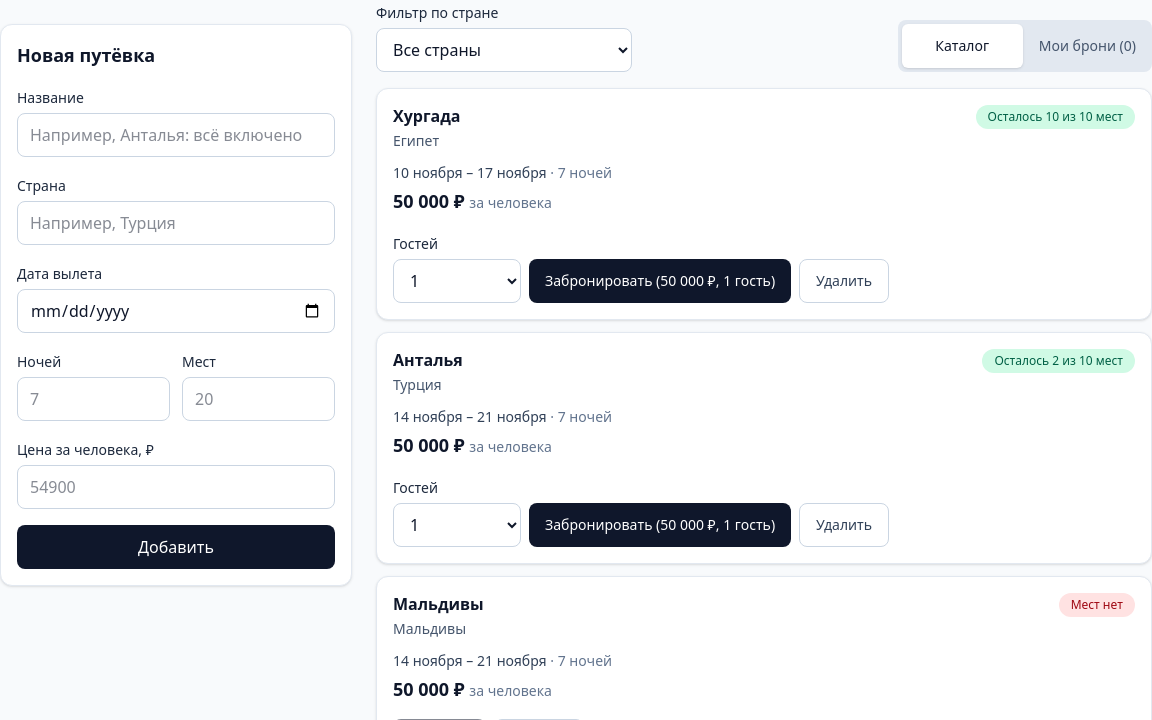
Test: ToursPage › отмена брони возвращает места
This screenshot has width=1152, height=720.
Expected: the heading "Анталья" is shown, [393, 349, 463, 371]
Click the button with aria-label "Забронировать: Анталья": {"x": 660, "y": 525} [529, 503, 791, 547]
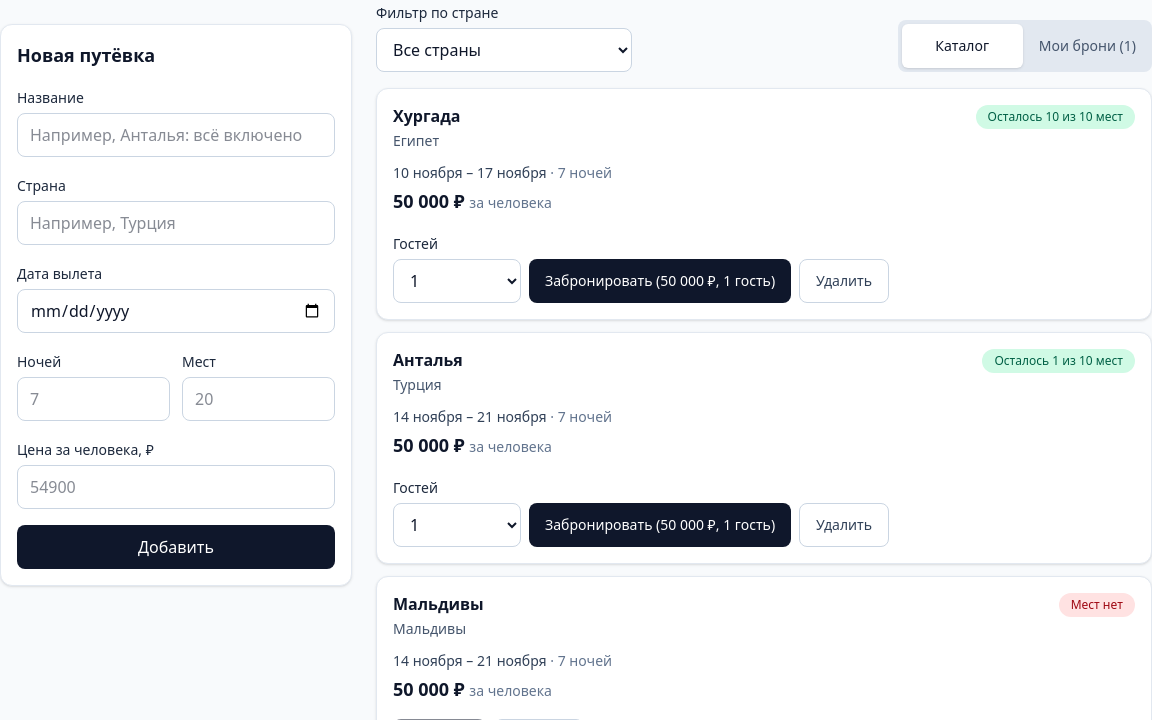
Click the button "Мои брони (1)": {"x": 1087, "y": 46} [1027, 24, 1148, 68]
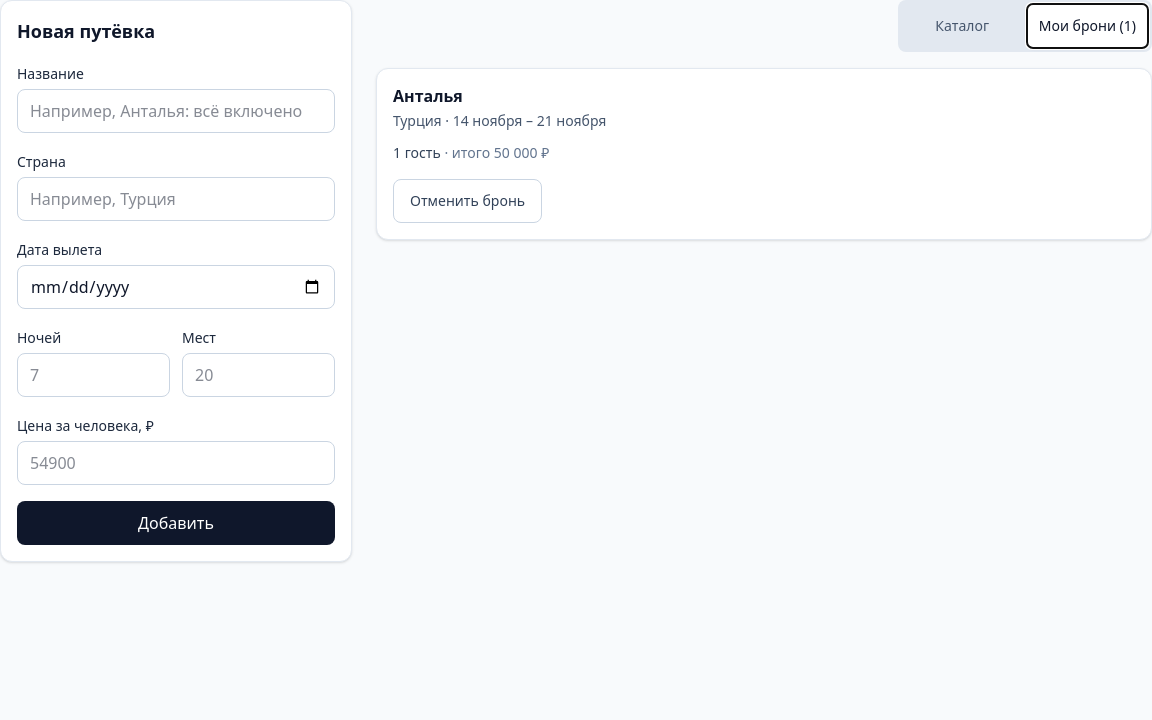
Click the button with aria-label "Отменить бронь: Анталья": {"x": 468, "y": 201} [393, 179, 542, 223]
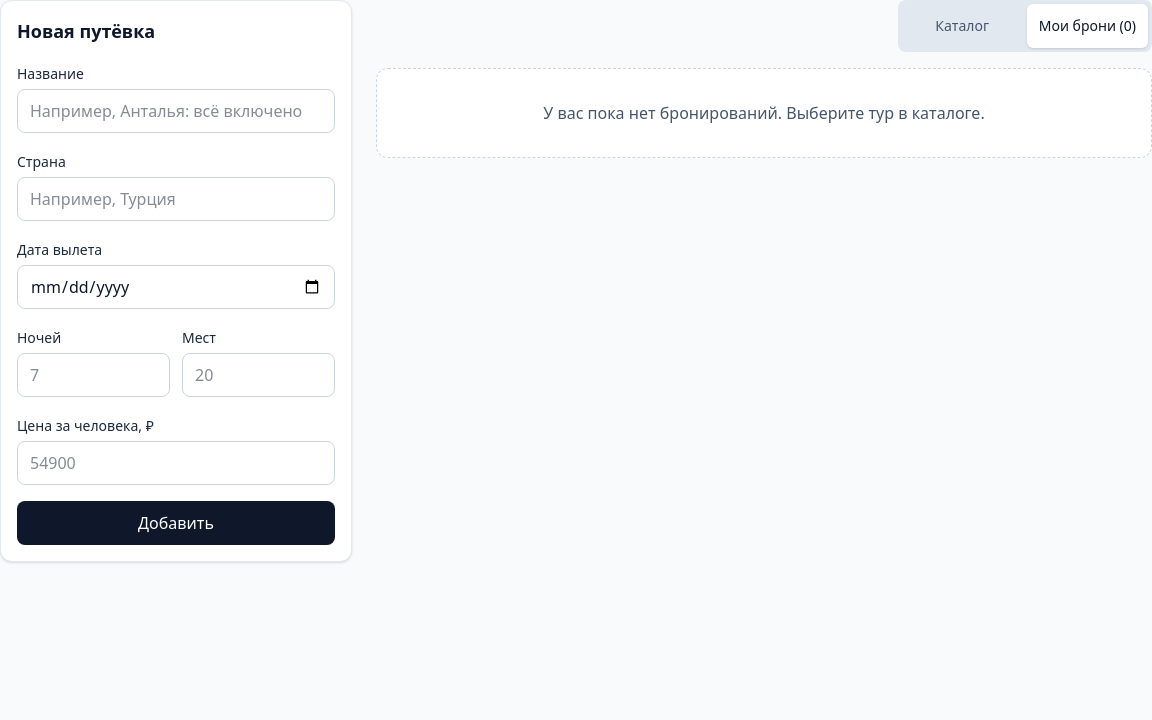
Result: the text "У вас пока нет бронирований. Выберите тур в каталоге." is shown at [376, 68, 1151, 158]
Click the button "Каталог": {"x": 962, "y": 26} [902, 4, 1023, 48]
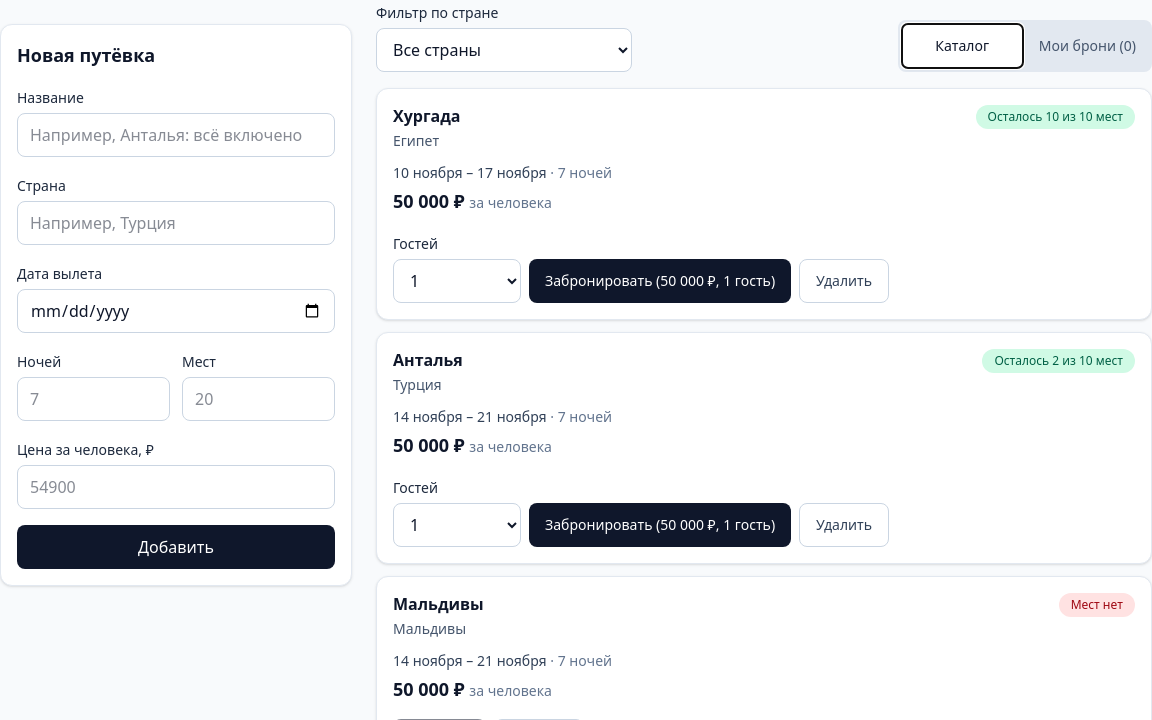
Result: the text "Осталось 2 из 10 мест" is shown at [982, 349, 1135, 373]
